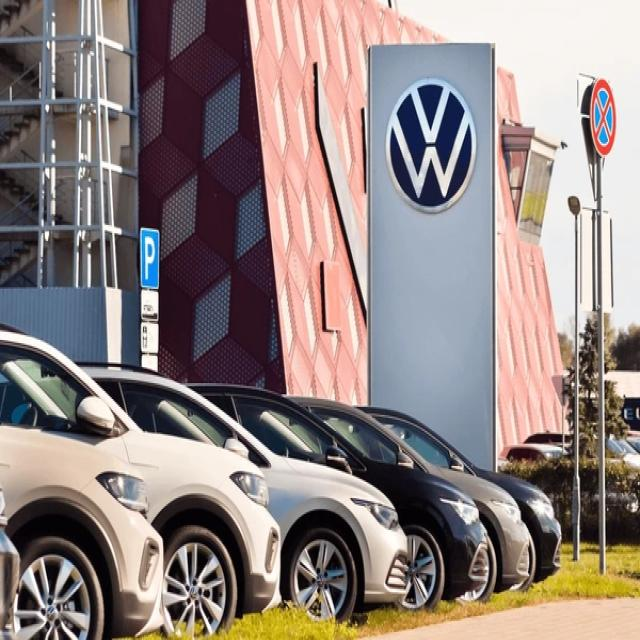wolksvogen: (388, 80, 476, 213)
